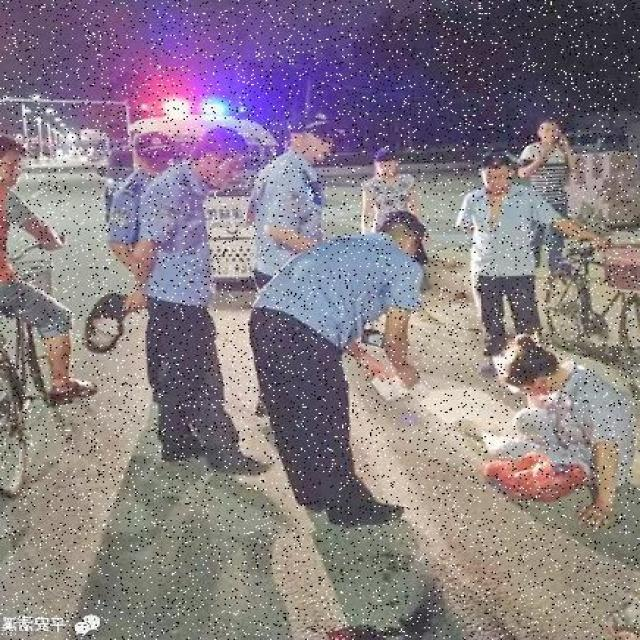fall: (470, 343, 636, 511)
